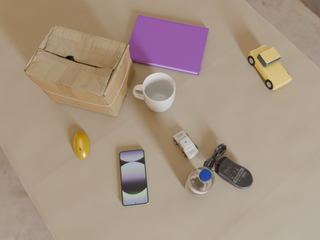book: (129, 15, 209, 76)
bottle: (185, 166, 215, 197)
box: (24, 26, 135, 117)
cup: (133, 73, 175, 112)
mouse: (204, 144, 253, 189), (73, 131, 90, 159)
phone: (119, 149, 149, 207)
toy_car: (248, 45, 292, 90), (173, 131, 198, 159)
